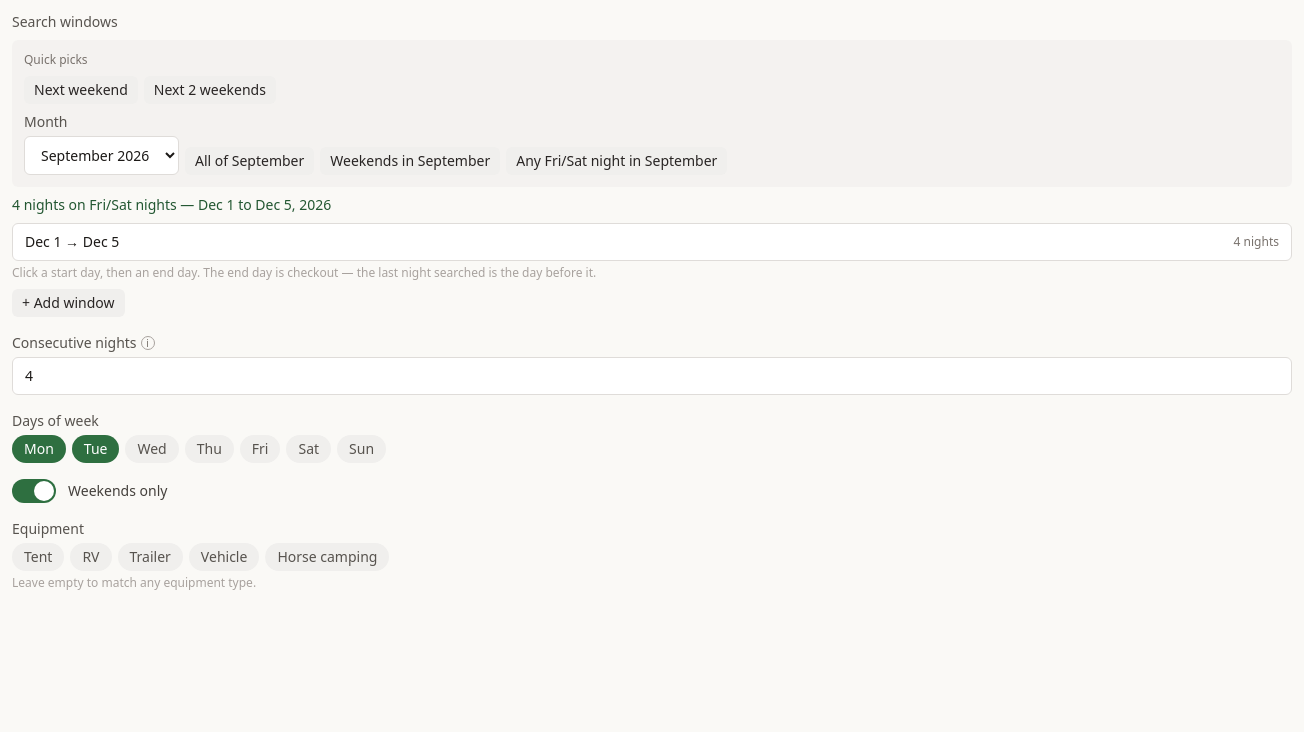
Scenario: DatesFiltersFields — quick-pick date templates › replaces existing windows and filters instead of appending to them
The width and height of the screenshot is (1304, 732).
What coordinates should you click on to do the following:
click the button "Next weekend"
I would click on:
 (81, 90)
Its box is [24,76,138,104].
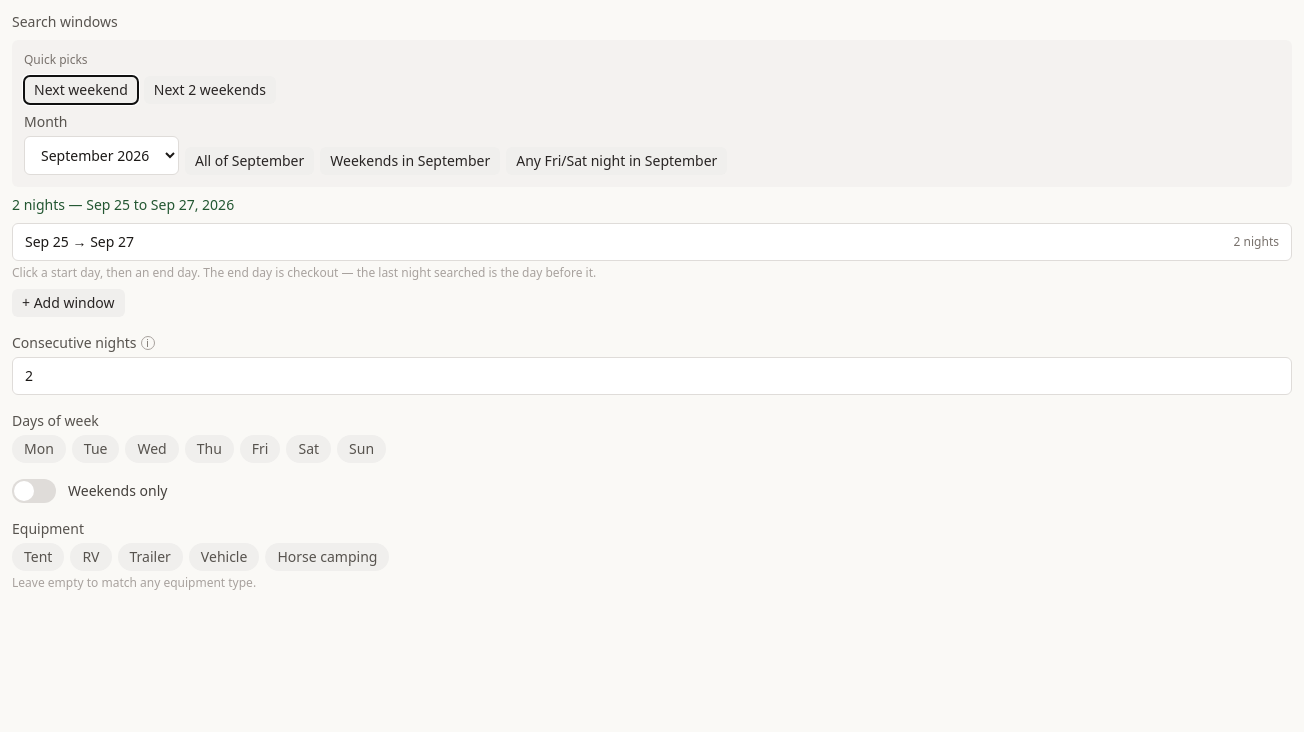
Result: the number field labelled "Consecutive nights i" holds "2" at [12,357,1292,395]
